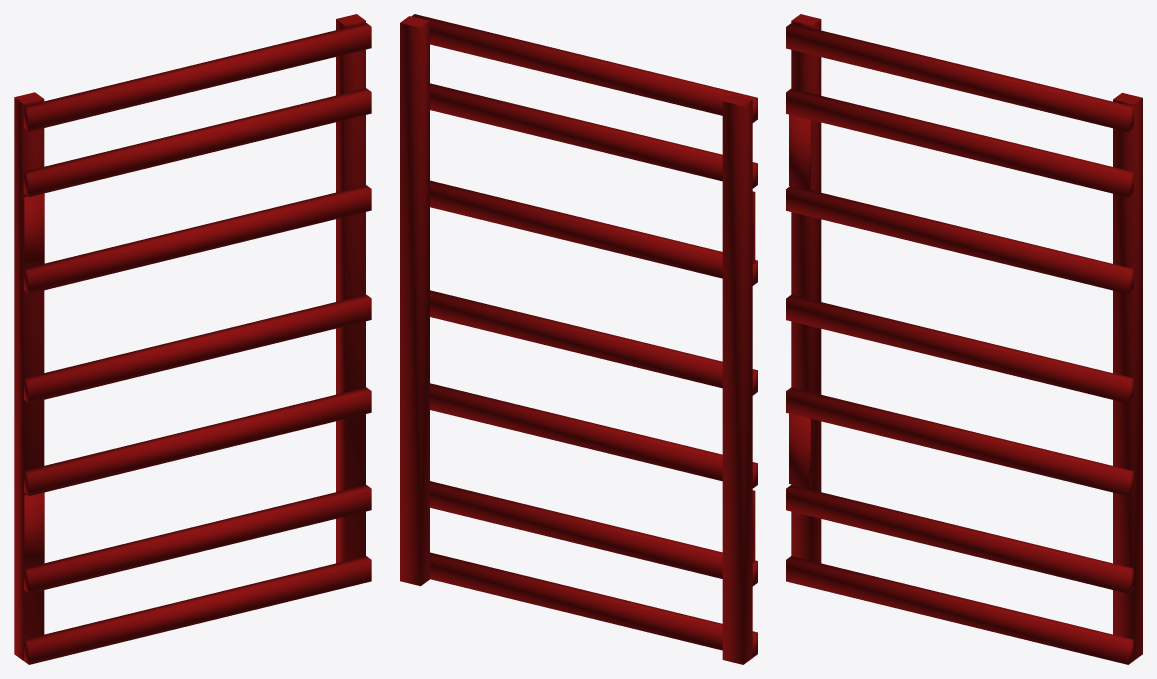
Rendered from BarDoor.FBX.
3 renders of one model, left to right at view 1: azimuth 30°, elevation 25°; view 2: azimuth 150°, elevation 25°; view 3: azimuth 330°, elevation 25°, orthographic.
Visible parts, largest first — view 1: Object001; view 2: Object001; view 3: Object001.
Part boxes in pixels (<box>): Object001: <box>14,14,371,664</box>; Object001: <box>400,14,757,664</box>; Object001: <box>786,14,1142,664</box>.
Bounding box in the file's own units: 42.65 × 66.11 × 3.15.
